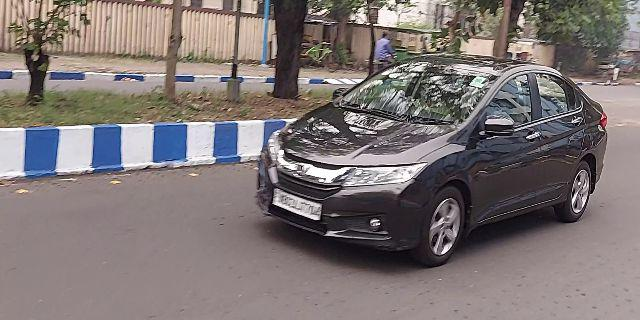Car: (259, 59, 609, 258)
